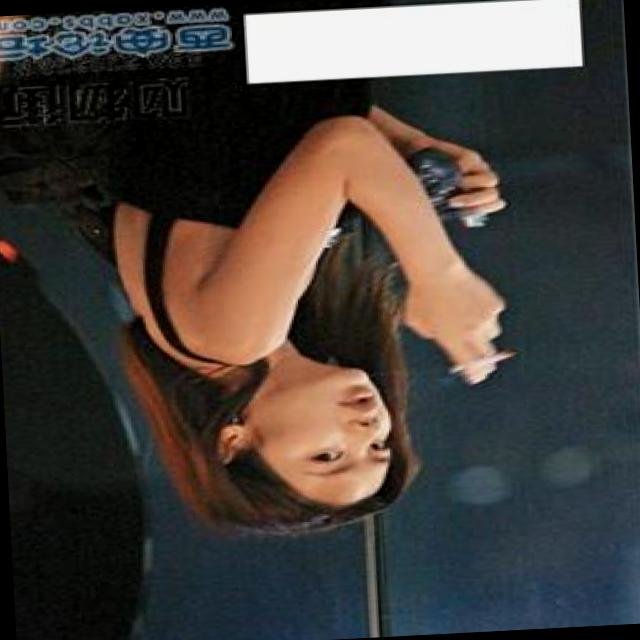cigarette: (426, 338, 540, 381)
